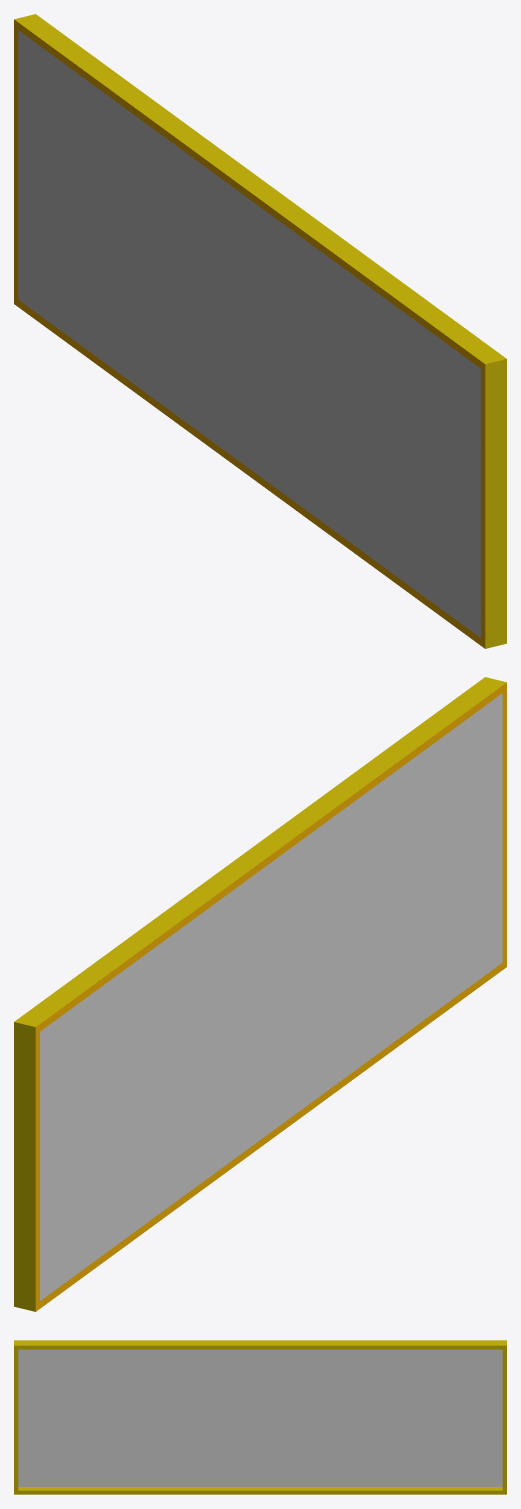
The model's file is window_9x3.dae.
3 views of the same model, one above another, from view 1: azimuth 30°, elevation 25°; view 2: azimuth 150°, elevation 25°; view 3: azimuth 270°, elevation 25° (orthographic). The views are drawn at different scales.
Parts seen in each view (by area): view 1: Cube; view 2: Cube; view 3: Cube.
Boxes of the visible parts, x1=… form: Cube: x1=14, y1=14, x2=506, y2=648; Cube: x1=14, y1=677, x2=506, y2=1311; Cube: x1=14, y1=1340, x2=506, y2=1494.
Size of the model in its own units: 0.06 by 2.25 by 0.75.
